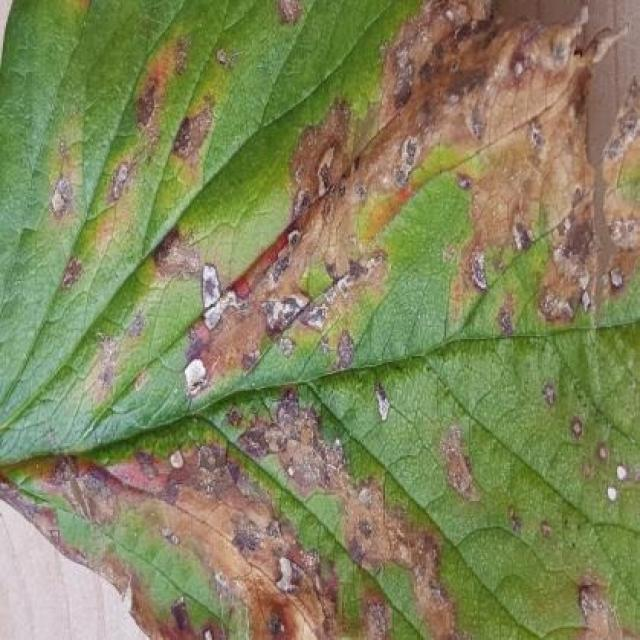Angular Leafspot: (0, 0, 638, 638)
